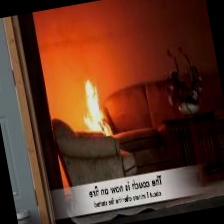fire: (70, 74, 111, 131)
